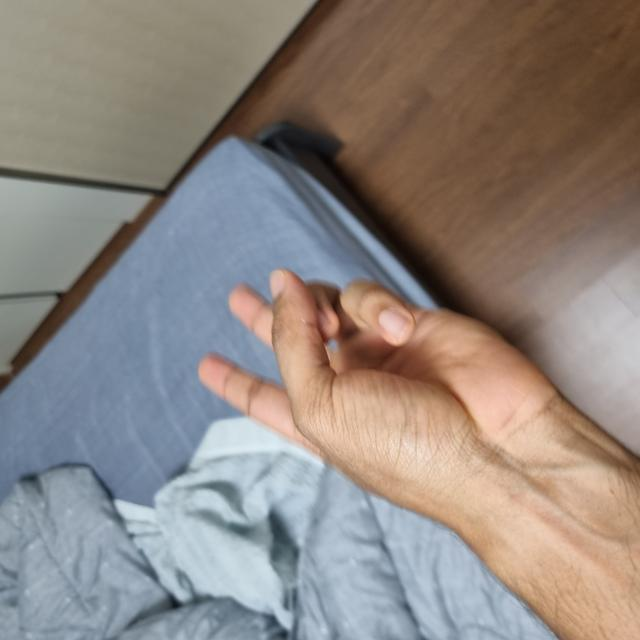Scissors: (111, 200, 370, 558)
